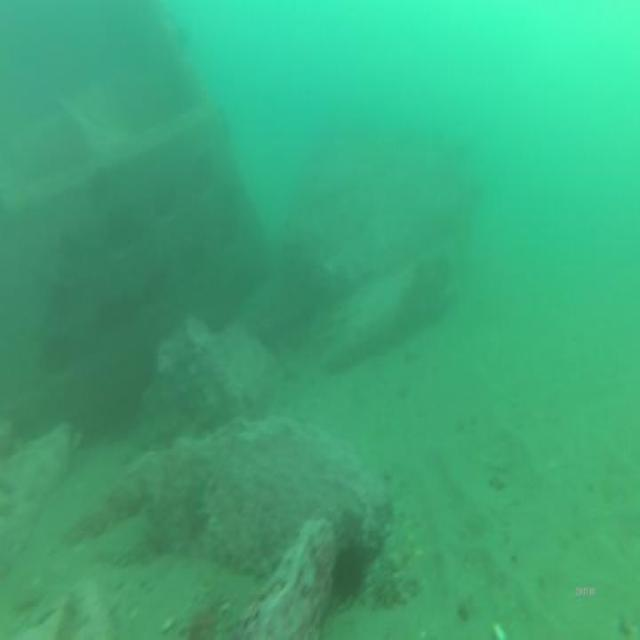echinus: (326, 536, 366, 610)
